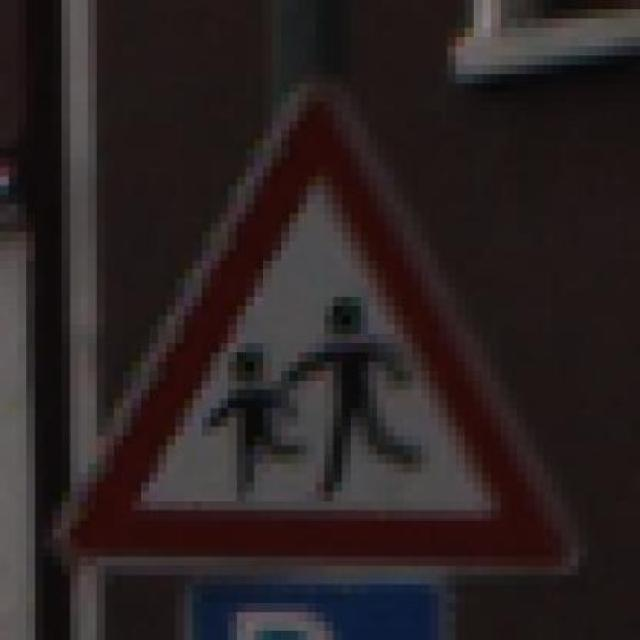Beware of children: (52, 46, 597, 594)
